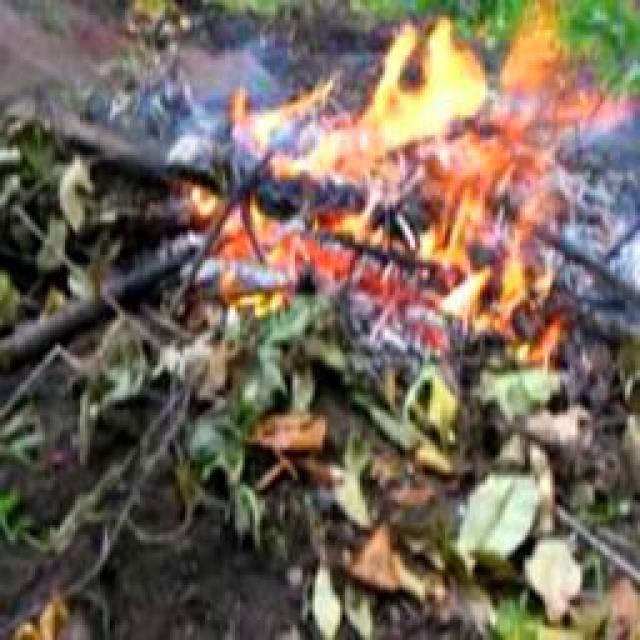Fire: (184, 11, 597, 286)
